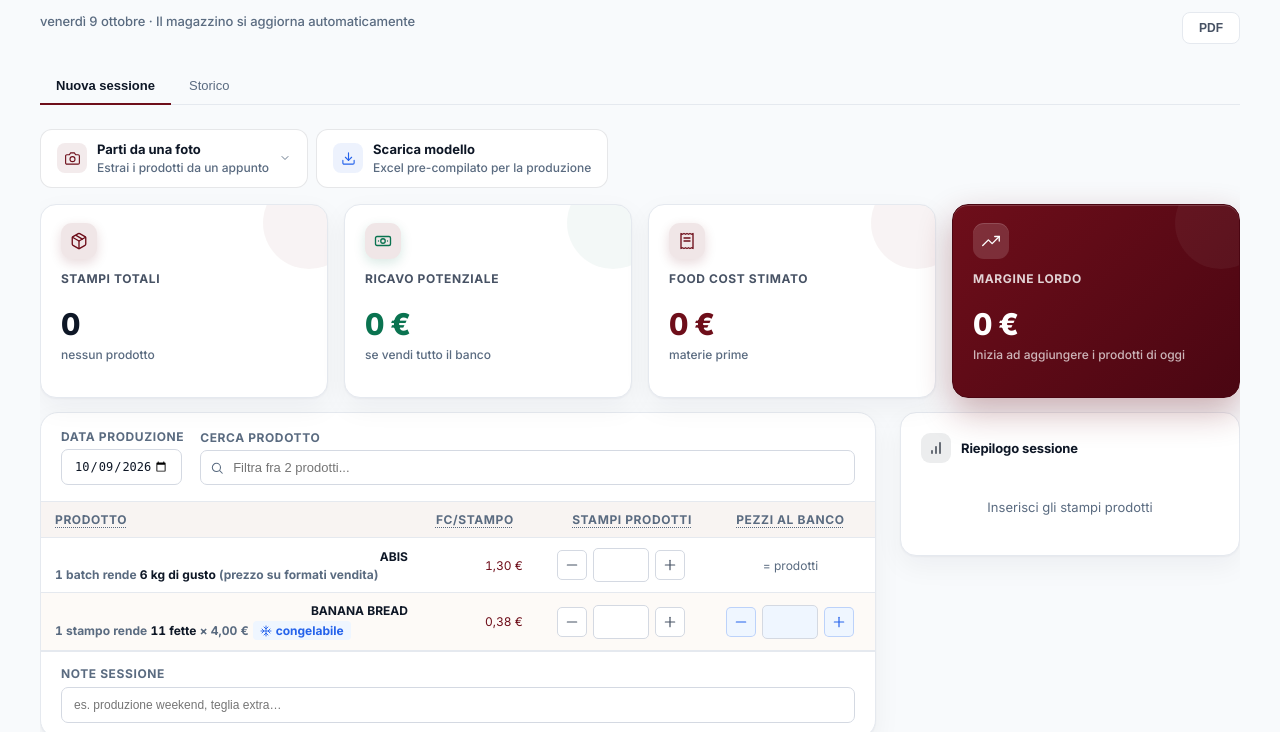
Test: storico — un numero che manca si dice, non si inventa › una sessione che il food cost ce l'ha lo mostra
What coordinates should you click on to do the following:
click the button "Storico"
I would click on:
 (209, 86)
Its box is [173, 68, 246, 105].
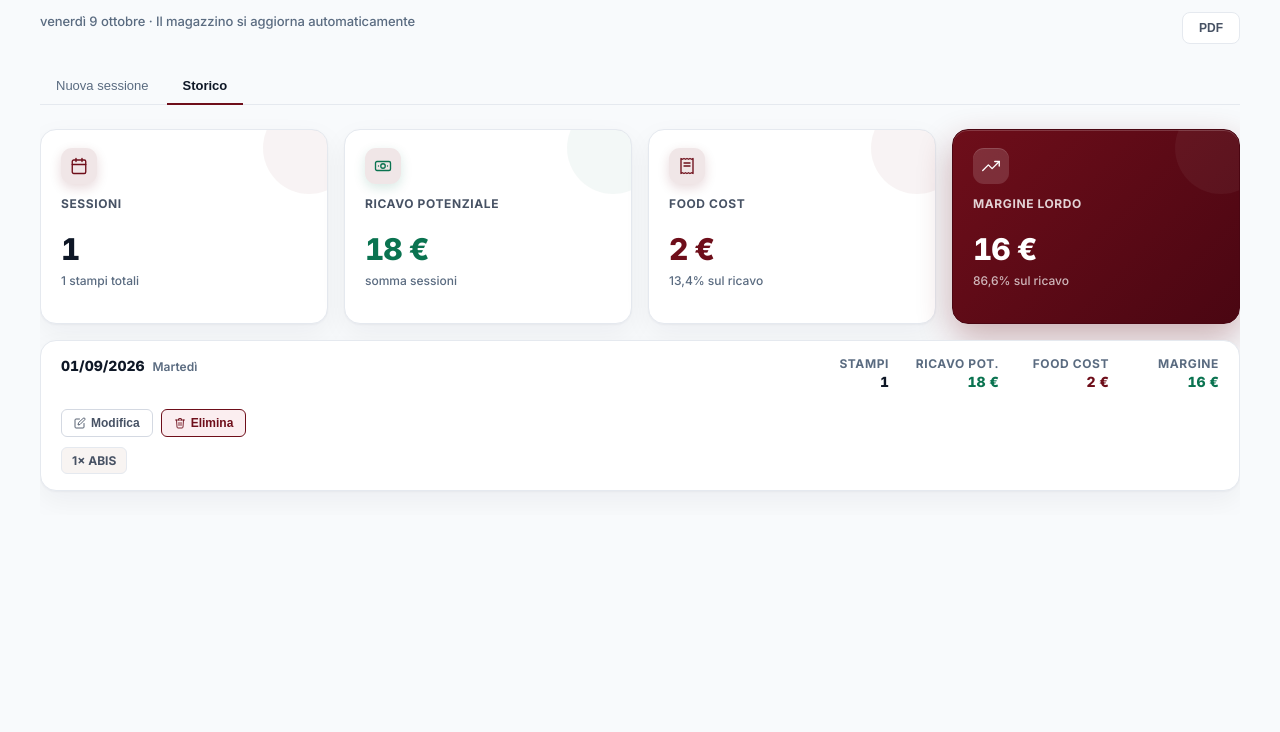
Now the text "Sessioni" is shown, box [61, 196, 122, 211]
Now the text "2 €" is shown, box [669, 231, 714, 267]
